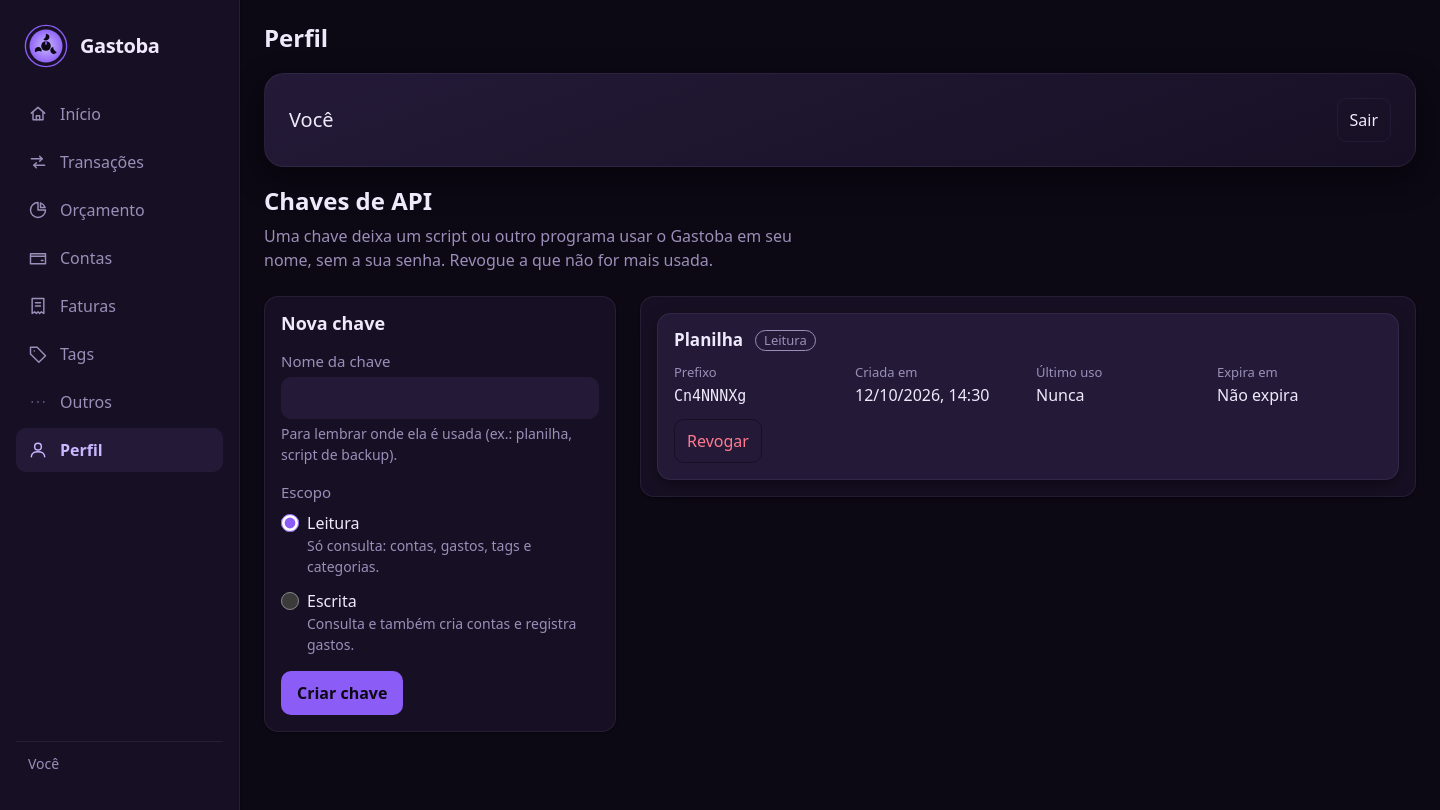
Perfil › confirmar a revogação tira a chave da lista e avisa
This screenshot has width=1440, height=810.
Click the button with aria-label "Revogar a chave Planilha" at (718, 441), box [674,419,762,463]
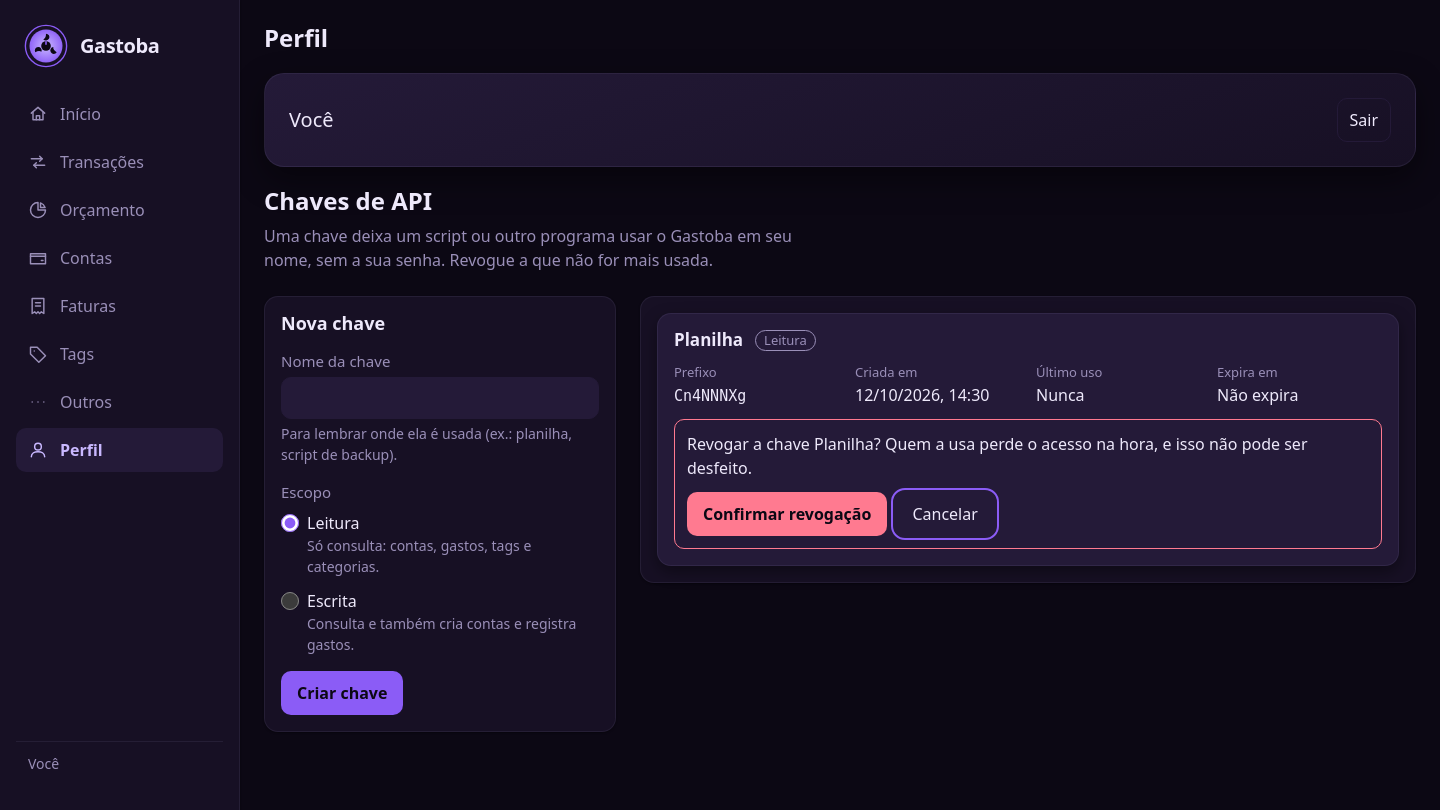
Click the button "Confirmar revogação" at (787, 514), box [687,492,887,536]
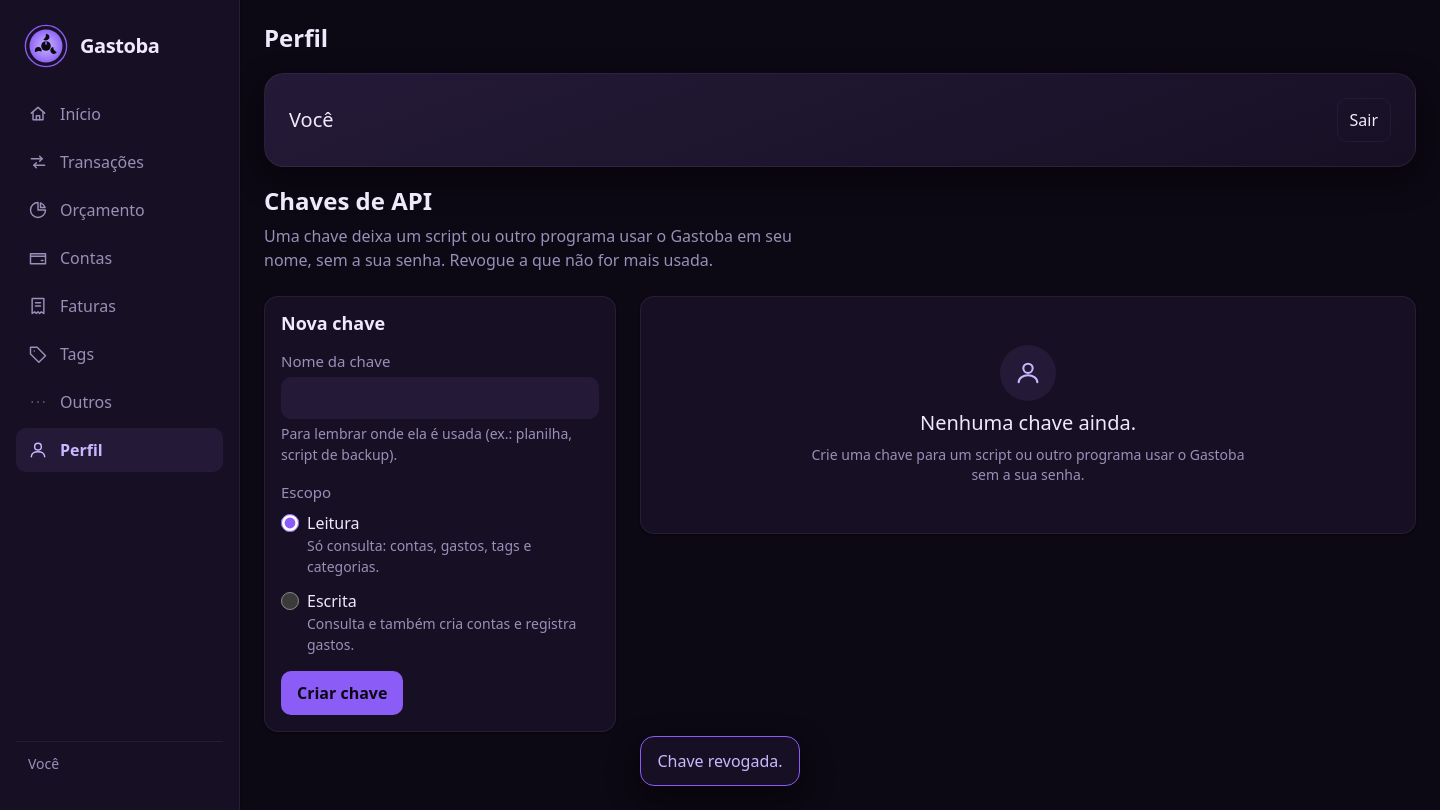
Expected: the text "Chave revogada." is shown, [658,750,782,772]
Expected: the text "Nenhuma chave ainda." is shown, [920,409,1136,437]
